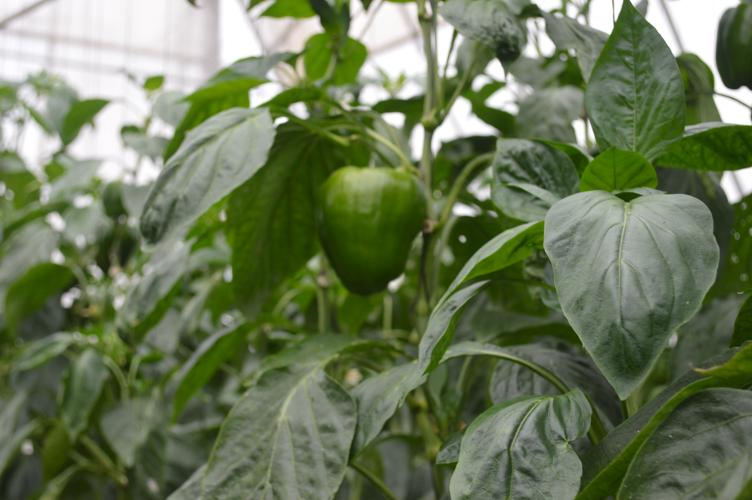BellPepper: (314, 164, 425, 287)
